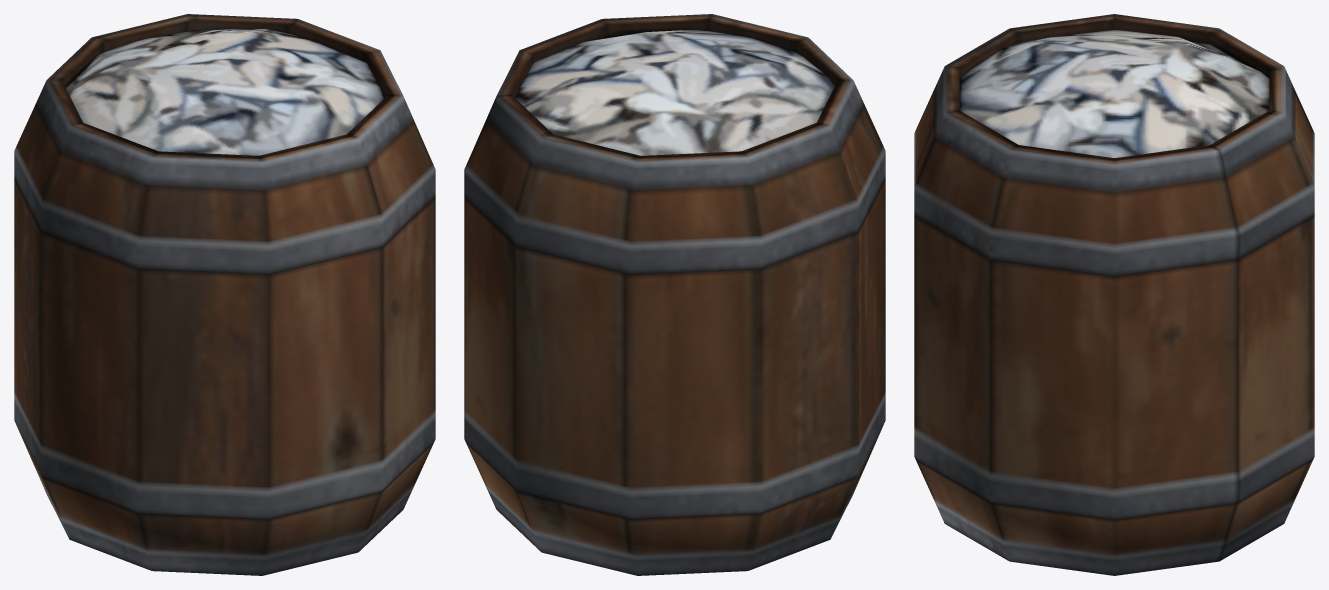
File: Barrel_fish1_atlas.fbx
The picture shows the model from 3 angles, left to right: view 1: azimuth 30°, elevation 25°; view 2: azimuth 150°, elevation 25°; view 3: azimuth 270°, elevation 25°; orthographic projection.
Visible parts, largest first — view 1: polySurface1; view 2: polySurface1; view 3: polySurface1.
Boxes of the visible parts, bbox=[...] form: polySurface1: bbox=[14, 14, 435, 575]; polySurface1: bbox=[464, 14, 885, 575]; polySurface1: bbox=[914, 14, 1314, 575].
Bounding box in the file's own units: 0.9039 × 1.03 × 0.8597.
